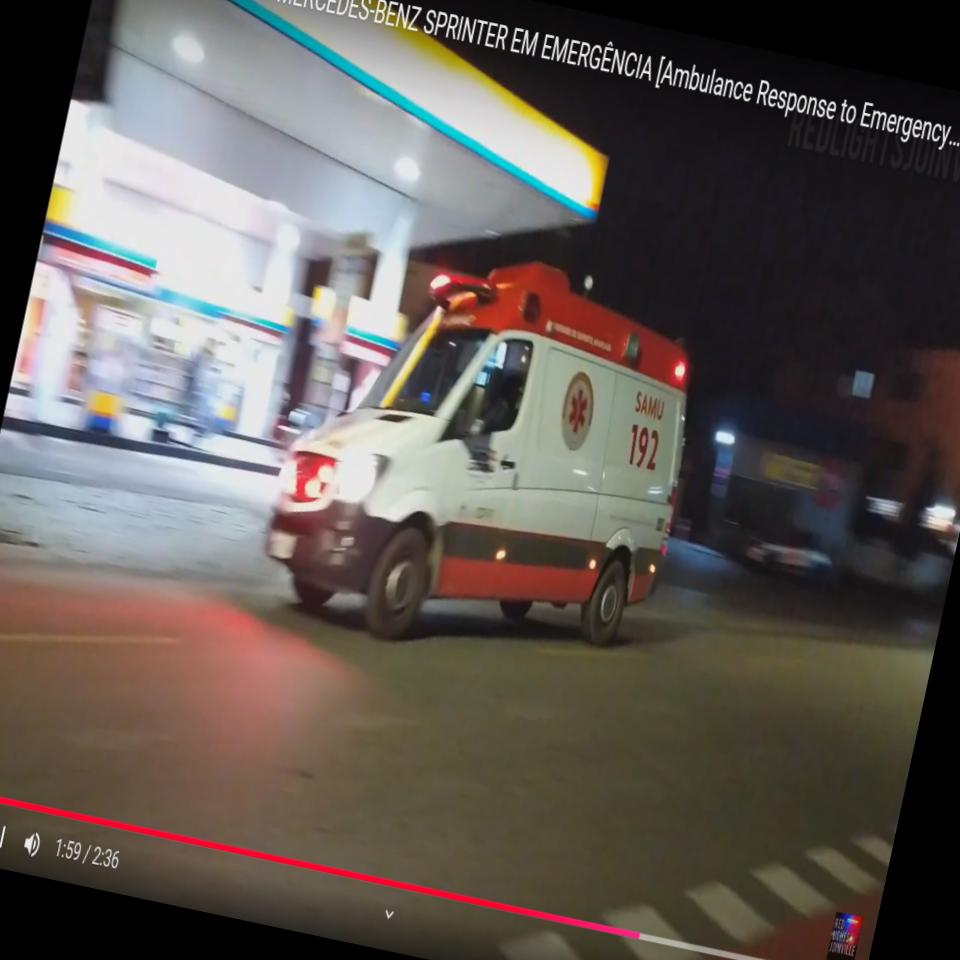bombeiro: (252, 214, 724, 693)
